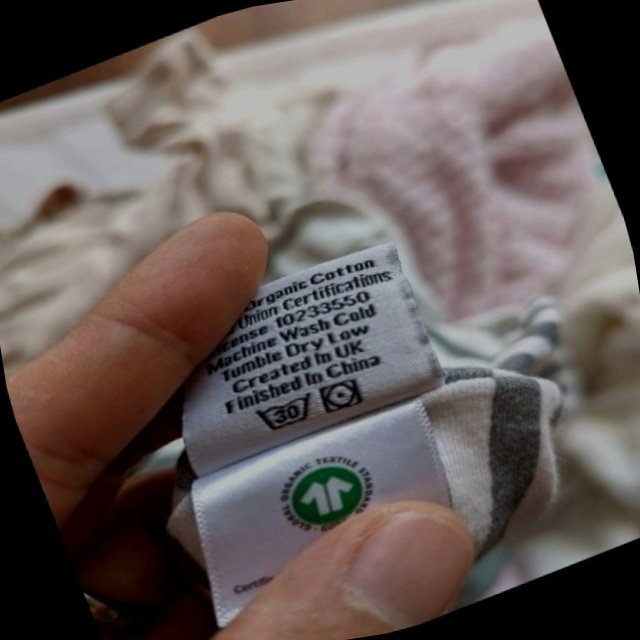30C: (246, 384, 325, 443)
tumble_dry_low: (312, 370, 370, 422)
